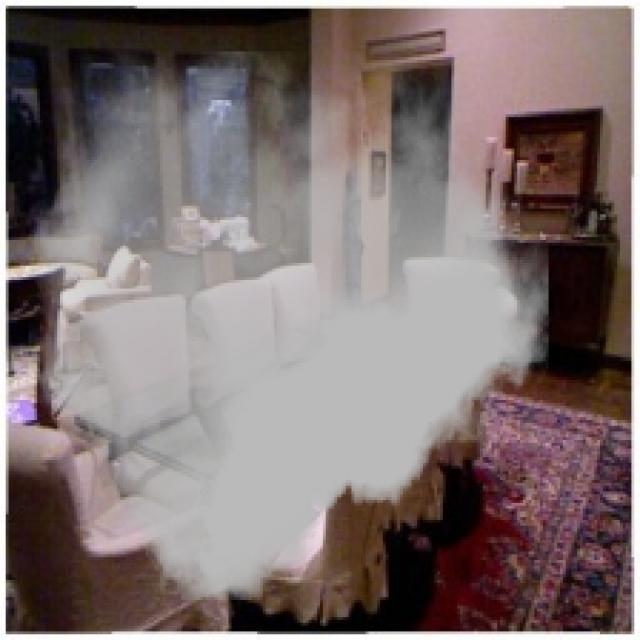smoke: (29, 51, 548, 600)
